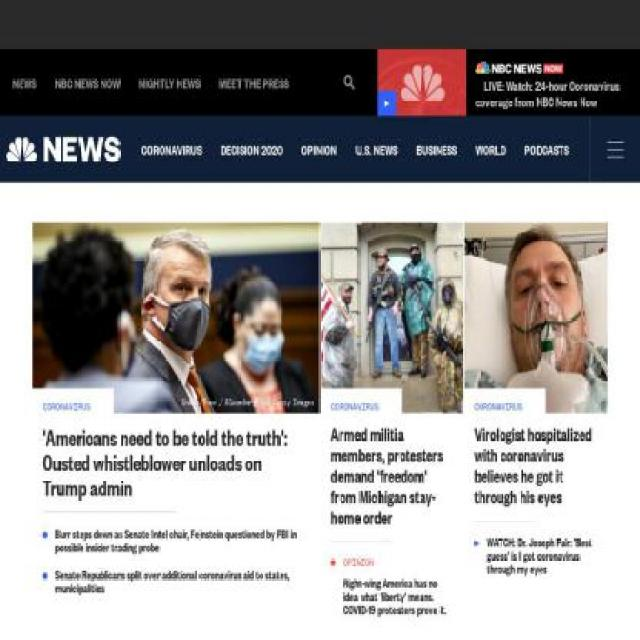button: (32, 222, 320, 415), (319, 222, 464, 413), (464, 222, 608, 413), (378, 49, 627, 116), (0, 115, 120, 183), (539, 180, 590, 248), (474, 401, 523, 410), (43, 402, 91, 411), (331, 401, 378, 410)
